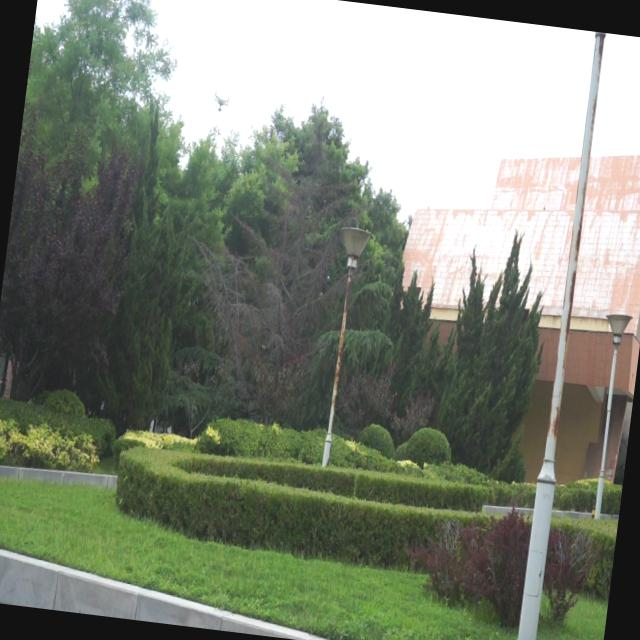drone: (208, 83, 233, 119)
